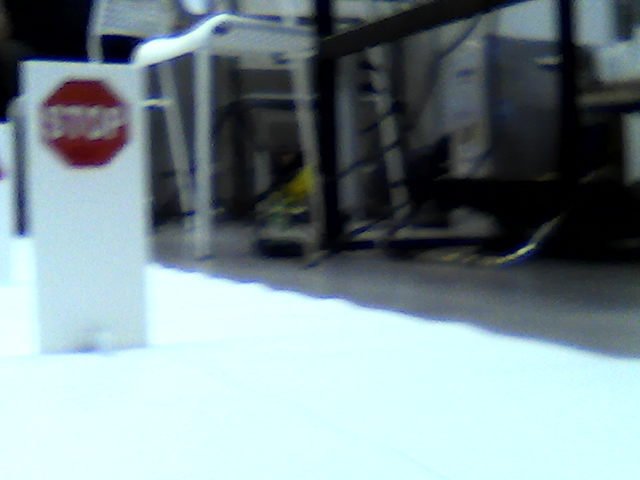Stop: (37, 77, 132, 172)
